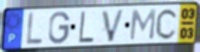C: (155, 7, 180, 41)
G: (47, 11, 72, 46)
L: (25, 12, 44, 46), (78, 10, 95, 44)
M: (128, 7, 158, 41)
V: (101, 8, 126, 44)
